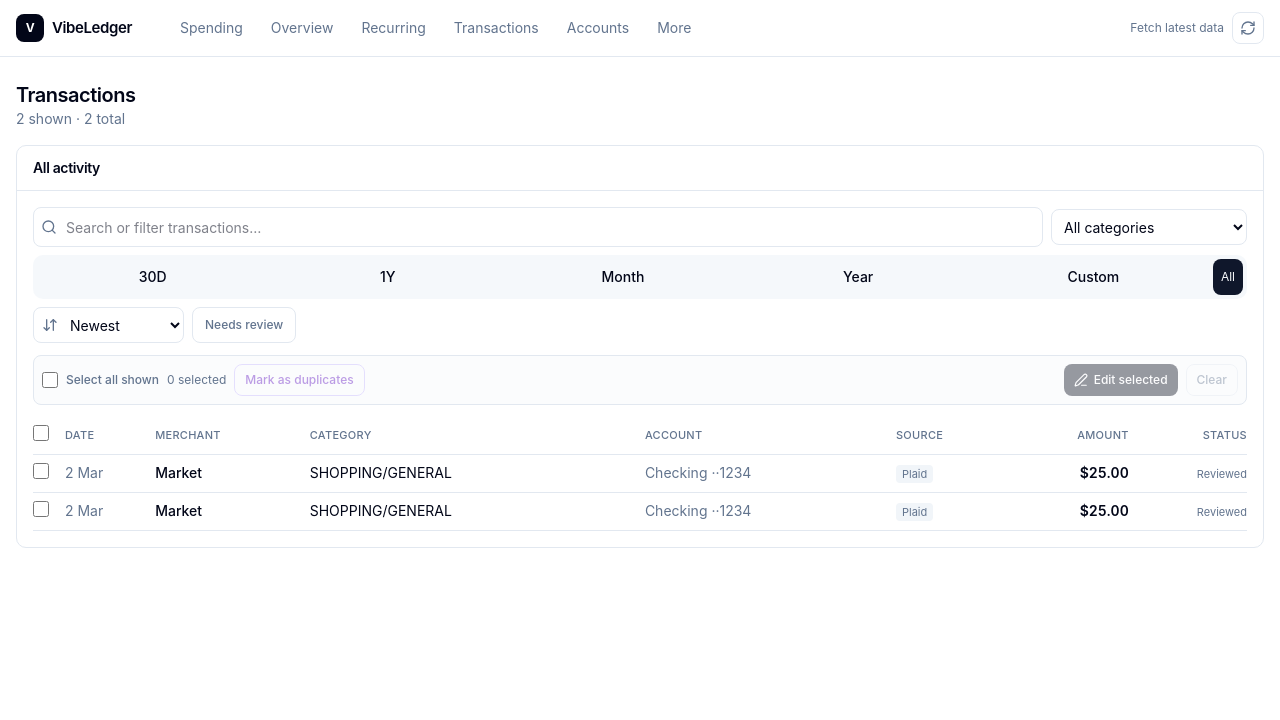
PI-18 duplicate-correction UI adversarial verification › keeps the correction dialog open and reports a create failure without invalidating
Click the 1st checkbox named "Select Market": (41, 471) [33,463,49,479]
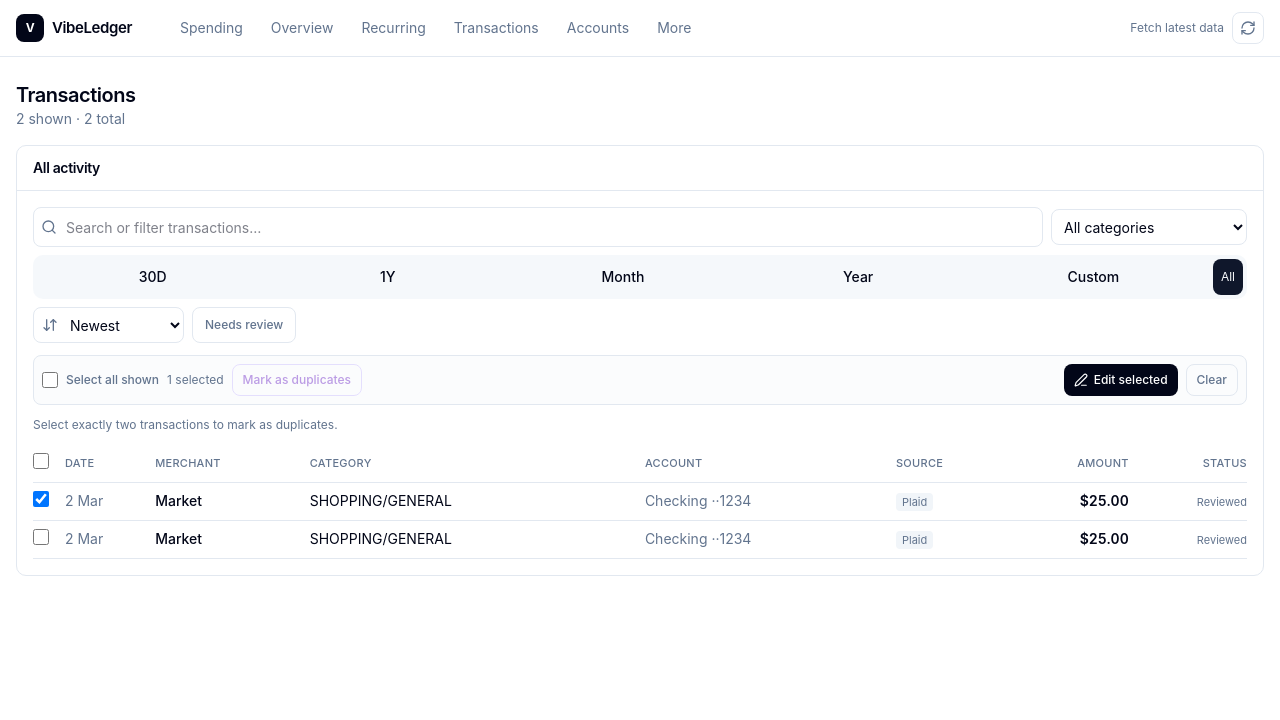
Click the 2nd checkbox named "Select Market": (41, 537) [33,529,49,545]
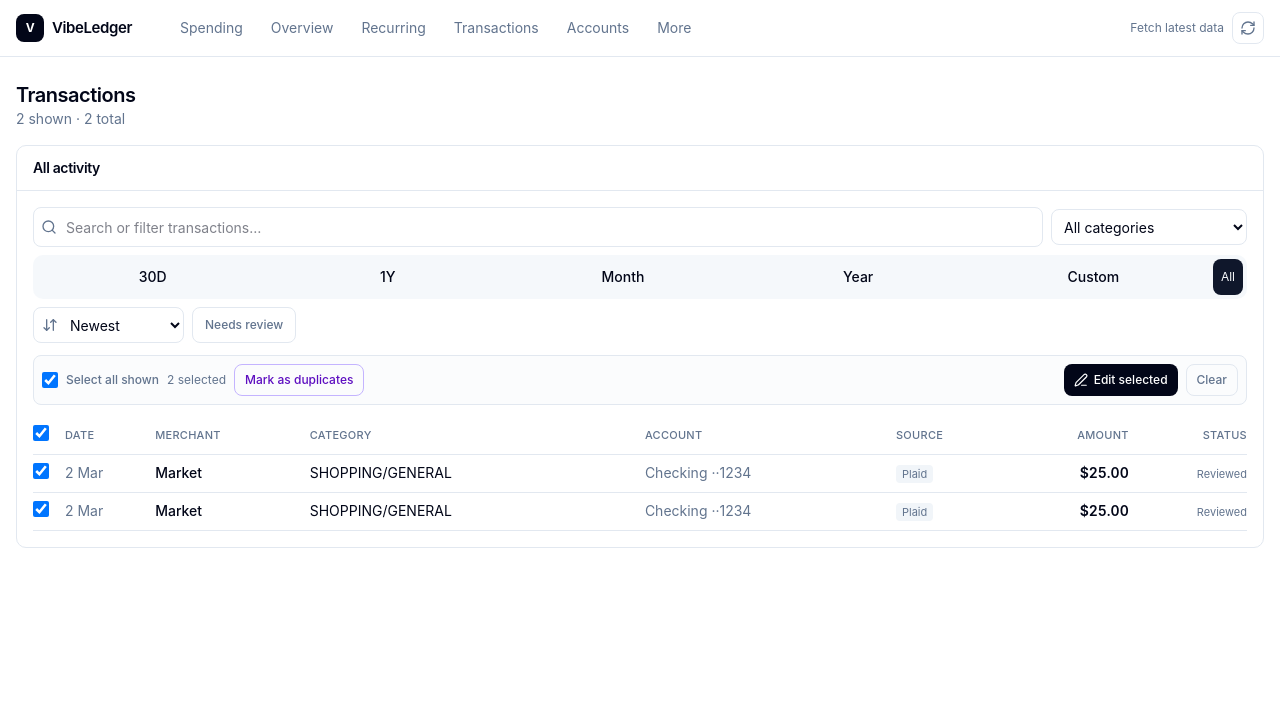
Click the button "Mark as duplicates": (299, 380) [234,364,364,396]
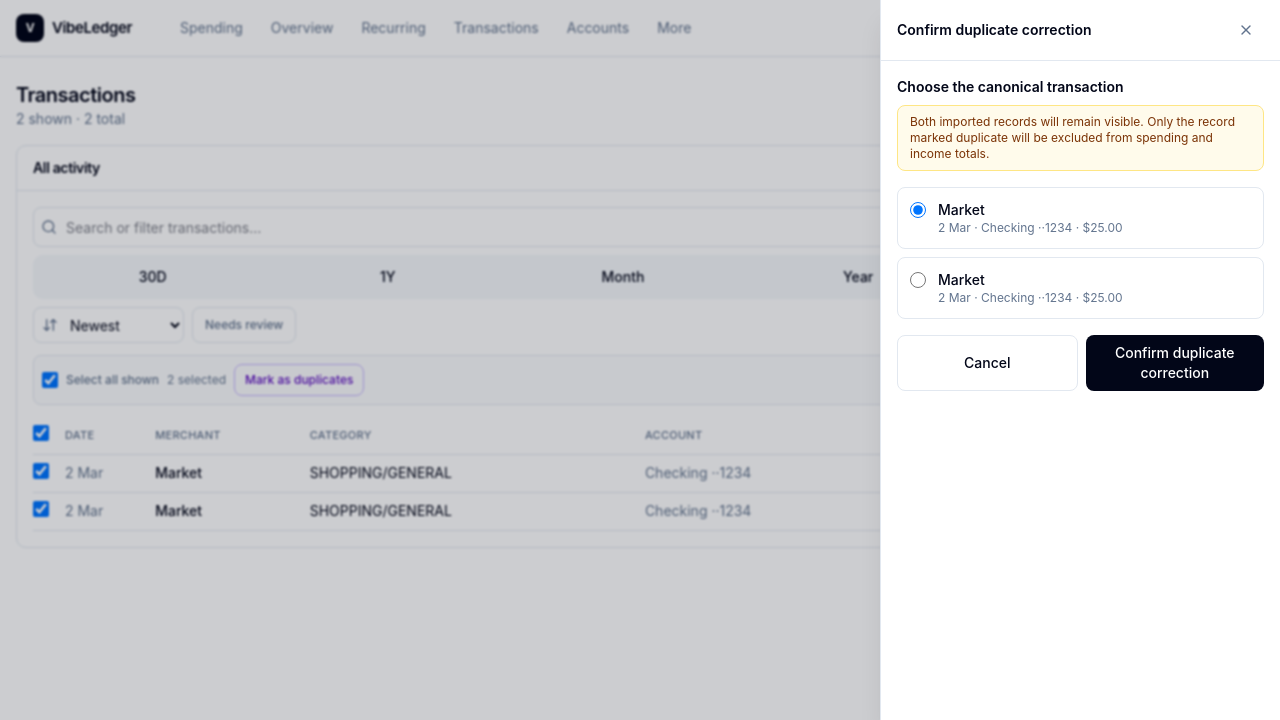
Click the button "Confirm duplicate correction": (1175, 363) [1086,335,1264,391]
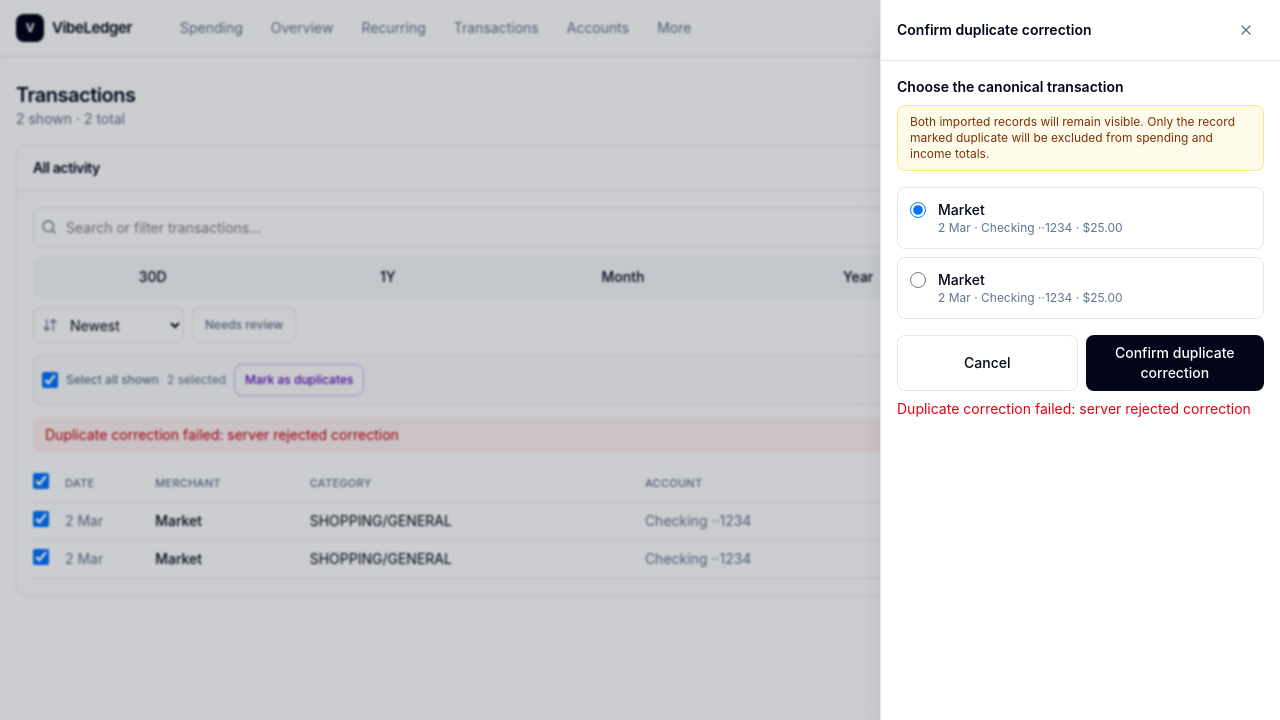
Expected: the dialog named "Duplicate correction" is shown, [880,0,1279,719]
Expected: the message "Duplicate correction failed: server rejected correction" below "Select all shown" is shown, [227,426,399,443]
